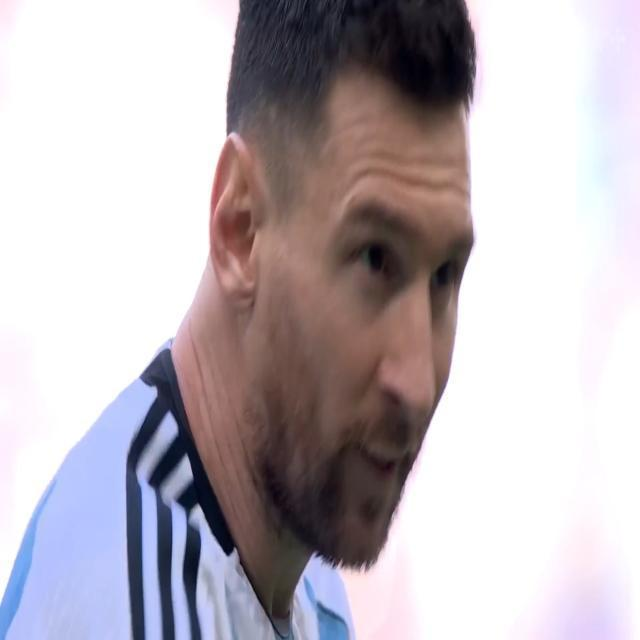player: (0, 0, 485, 640)
